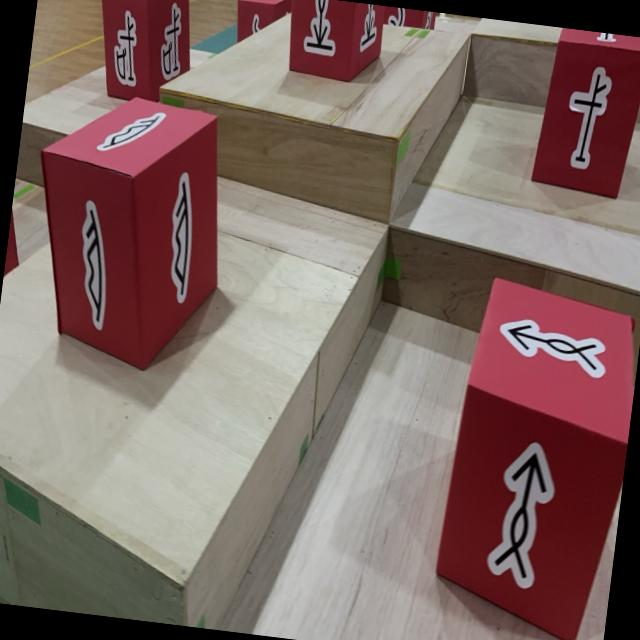10: (250, 14, 261, 36)
11: (68, 197, 118, 331), (161, 171, 202, 304), (96, 103, 166, 159)
12: (482, 436, 560, 590), (494, 314, 612, 381)
13: (386, 6, 404, 26)
5: (110, 8, 146, 86), (156, 2, 188, 80)
7: (302, 0, 341, 57), (358, 4, 379, 56)
9: (562, 62, 614, 170)
fighter: (429, 272, 640, 640), (17, 84, 240, 378), (530, 26, 640, 199), (88, 0, 200, 105), (282, 0, 386, 85), (233, 0, 292, 51), (3, 204, 26, 278), (383, 6, 436, 30)
